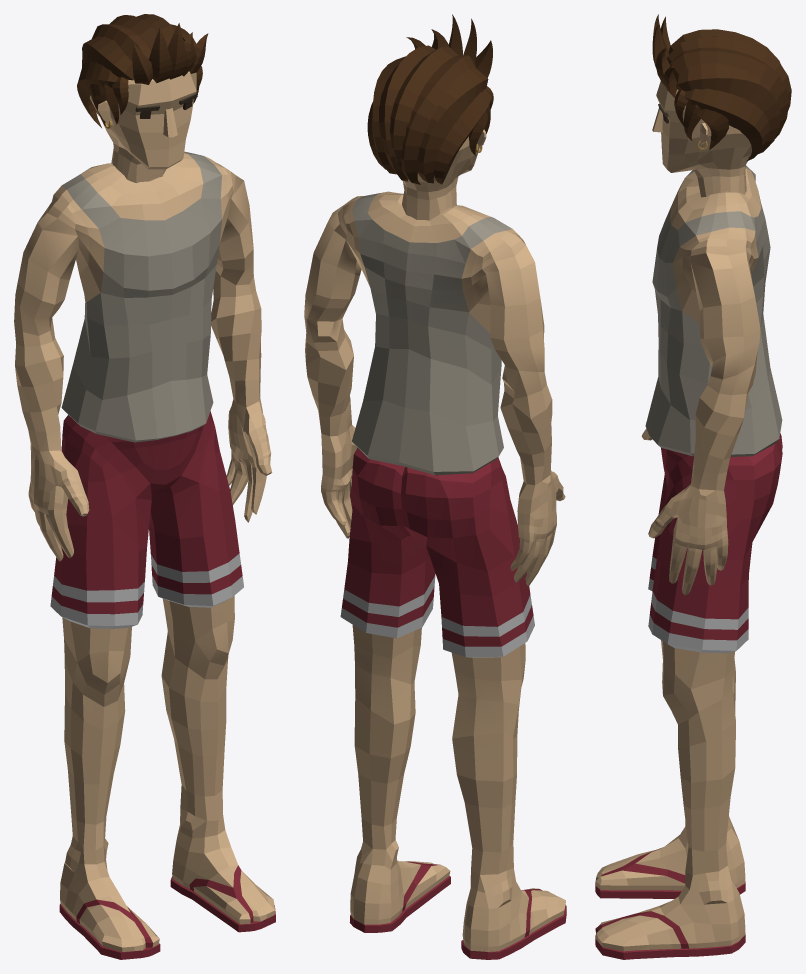
Rendered from beach-man.glb.
The picture shows the model from 3 angles, left to right: view 1: azimuth 30°, elevation 25°; view 2: azimuth 150°, elevation 25°; view 3: azimuth 270°, elevation 25°; orthographic projection.
Parts seen in each view (by area): view 1: Beach_Body, Beach_Legs, Beach_Head, Beach_Feet; view 2: Beach_Body, Beach_Legs, Beach_Head, Beach_Feet; view 3: Beach_Body, Beach_Legs, Beach_Head, Beach_Feet.
Part boxes in pixels (bbox=[...]): Beach_Body: bbox=[14, 151, 272, 561]; Beach_Legs: bbox=[50, 411, 243, 850]; Beach_Head: bbox=[77, 14, 208, 183]; Beach_Feet: bbox=[59, 808, 275, 959]; Beach_Body: bbox=[304, 191, 565, 586]; Beach_Legs: bbox=[340, 448, 534, 874]; Beach_Head: bbox=[367, 14, 493, 220]; Beach_Feet: bbox=[349, 840, 566, 959]; Beach_Body: bbox=[641, 165, 782, 595]; Beach_Legs: bbox=[648, 433, 782, 875]; Beach_Head: bbox=[652, 14, 791, 197]; Beach_Feet: bbox=[595, 816, 745, 959].
Bounding box in the file's own units: 0.5283 × 1.88 × 0.3725.
